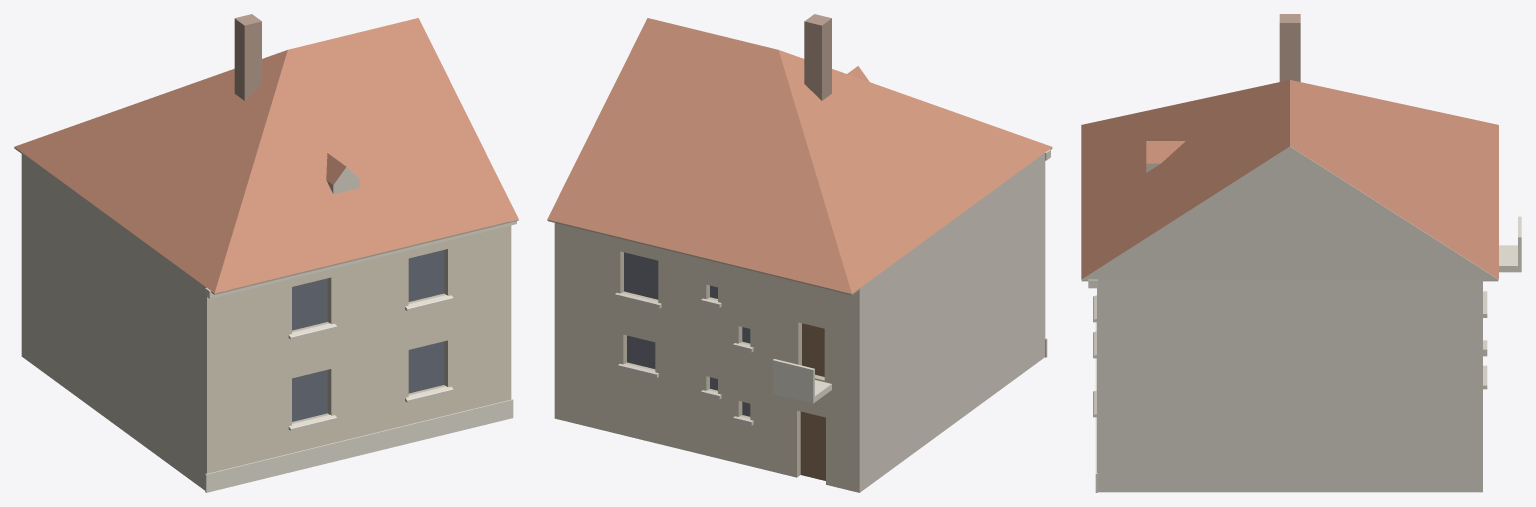
3 views of the same model, side by side, from view 1: azimuth 30°, elevation 25°; view 2: azimuth 150°, elevation 25°; view 3: azimuth 270°, elevation 25° (orthographic). The views are drawn at different scales.
Visible parts, largest first — view 1: CP_1824_Masonry, CP_1824_Roof, CP_1824_Cornice_plinth_0, CP_1824_Chimney_0, CP_1824_Cornice_main_0, CP_1824_Dormer_V1, CP_1824_Roof_EaveClosure_2; view 2: CP_1824_Masonry, CP_1824_Roof, CP_1824_Chimney_0, CP_1824_Balcony_Rail, CP_1824_Roof_EaveClosure_0, CP_1824_Balcony; view 3: CP_1824_Masonry, CP_1824_Roof, CP_1824_Gable_R_gable, CP_1824_Chimney_0, CP_1824_Dormer_V1, CP_1824_Balcony.
Part boxes in pixels (x1,y1,x2,y2): CP_1824_Masonry: (21,152,511,490); CP_1824_Roof: (14,18,518,293); CP_1824_Cornice_plinth_0: (205,399,513,492); CP_1824_Chimney_0: (234,14,261,100); CP_1824_Cornice_main_0: (205,221,516,298); CP_1824_Dormer_V1: (326,153,359,194); CP_1824_Roof_EaveClosure_2: (211,220,518,294); CP_1824_Masonry: (554,153,1045,492); CP_1824_Roof: (547,18,1052,293); CP_1824_Chimney_0: (804,14,831,100); CP_1824_Balcony_Rail: (772,359,814,397); CP_1824_Roof_EaveClosure_0: (547,220,859,294); CP_1824_Balcony: (772,380,831,403); CP_1824_Masonry: (1097,279,1482,492); CP_1824_Roof: (1081,80,1498,279); CP_1824_Gable_R_gable: (1081,146,1498,280); CP_1824_Chimney_0: (1279,14,1300,81); CP_1824_Dormer_V1: (1146,141,1185,172); CP_1824_Balcony: (1499,245,1521,272).
Bounding box in the file's own units: 10.55 × 12.2 × 12.57.
